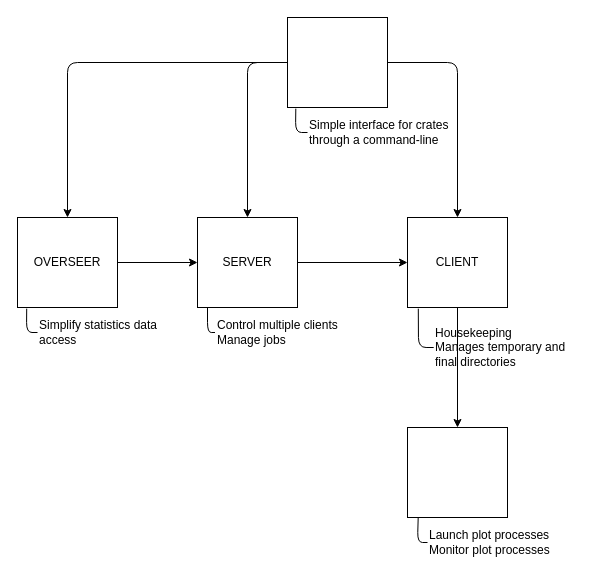
Some shapes in this 590 by 575 pixel diagram are drawn without their labels. The shapes that lost their labels are listed below. From the top down, each one's centre as x and y in pixels, then its label:
the point at 337,62: CLI
the point at 457,472: CORE
